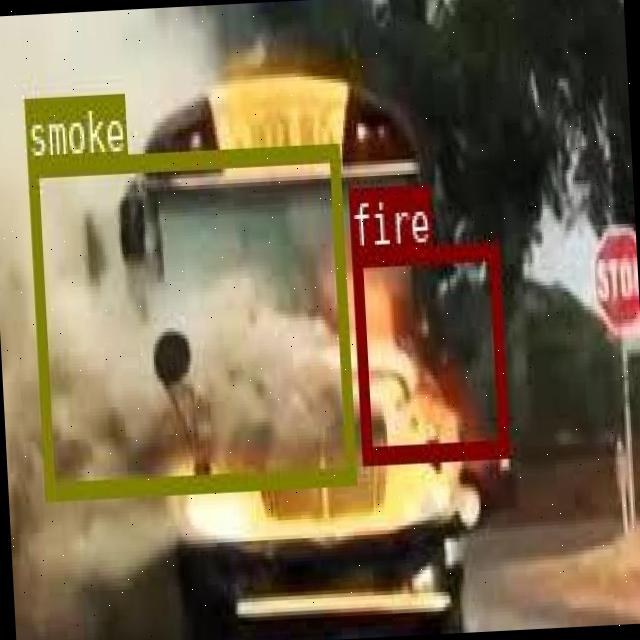fire: (352, 241, 508, 461)
smoke: (28, 141, 354, 498)
